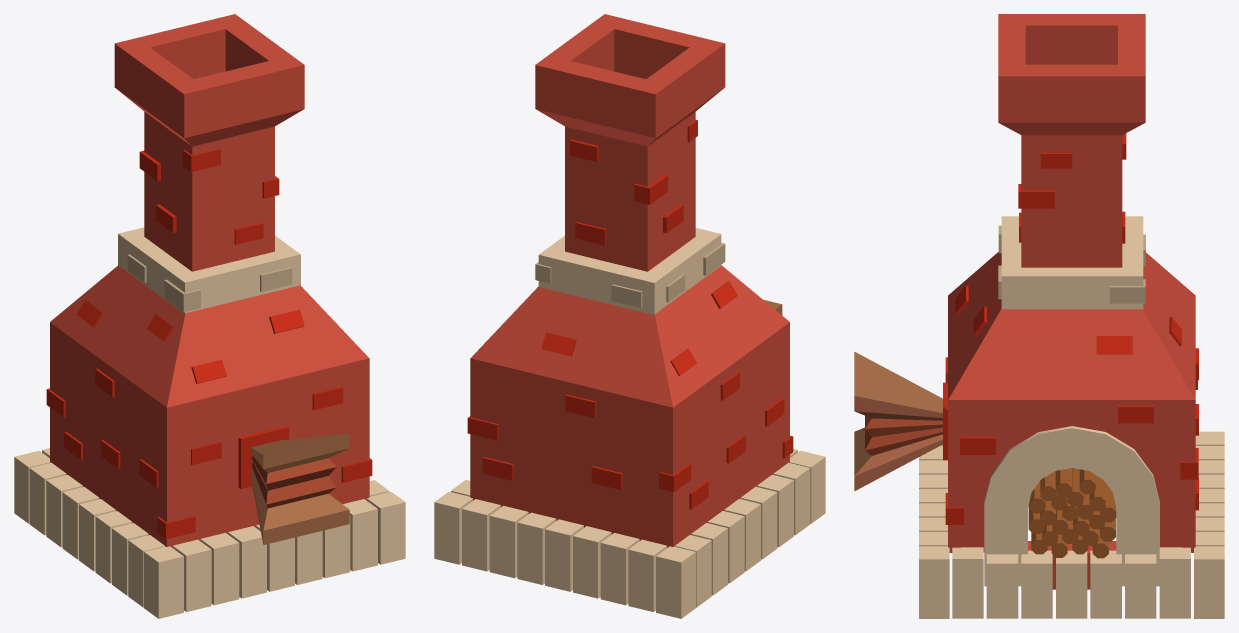
The model's file is Stove.fbx.
3 renders of one model, left to right at view 1: azimuth 30°, elevation 25°; view 2: azimuth 150°, elevation 25°; view 3: azimuth 270°, elevation 25°, orthographic. The views are drawn at different scales.
Visible parts, largest first — view 1: Stove; view 2: Stove; view 3: Stove.
Boxes of the visible parts, <box> form: Stove: <box>14,14,405,618</box>; Stove: <box>434,14,825,618</box>; Stove: <box>854,14,1224,618</box>.
Size of the model in its own units: 213 by 397 by 261.
